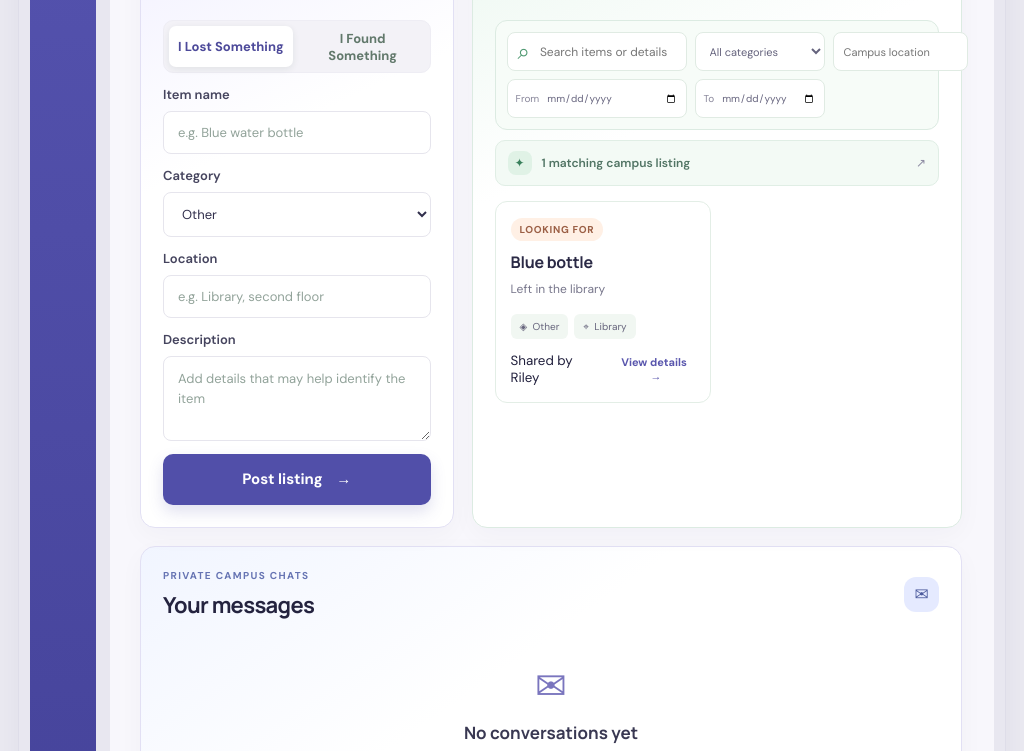
Test case: CampusFind board › lets the listing owner edit details
The image size is (1024, 751).
(page scrolled)
Step 1. Click the button "View details →" → (654, 369), box [613,351,695,387]
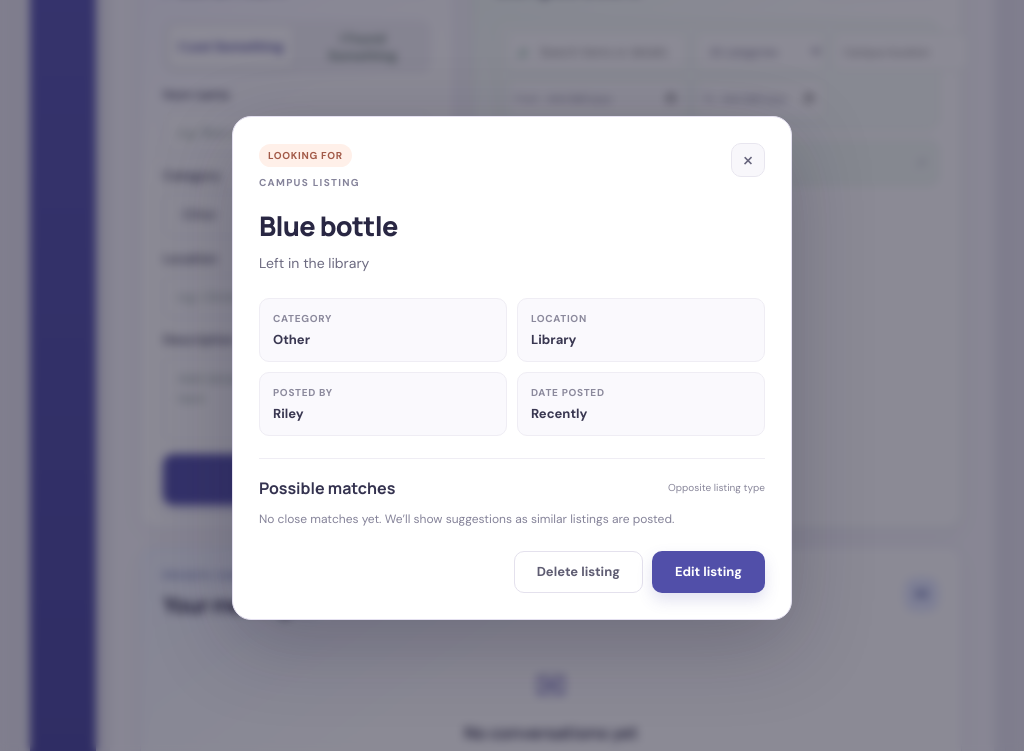
Step 2. Click the button "Edit listing" → (708, 572), box [652,551,765,593]
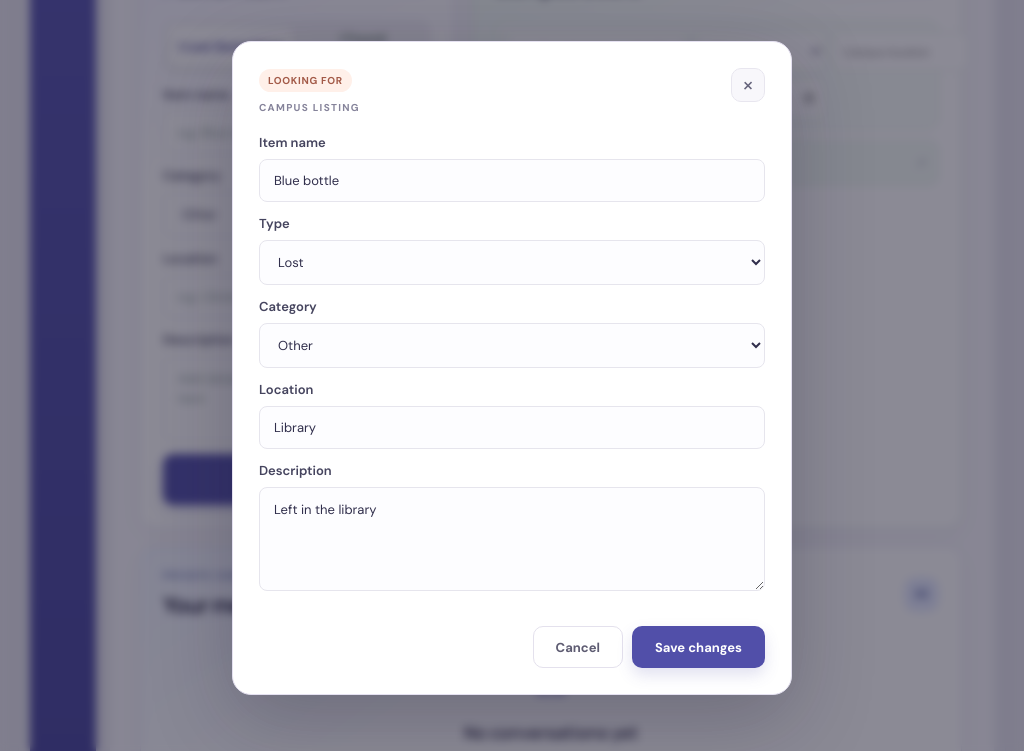
Step 3. Replace the text in the field labelled "Item name" with "Blue bottle edited" → (512, 180), box [259,159,765,202]
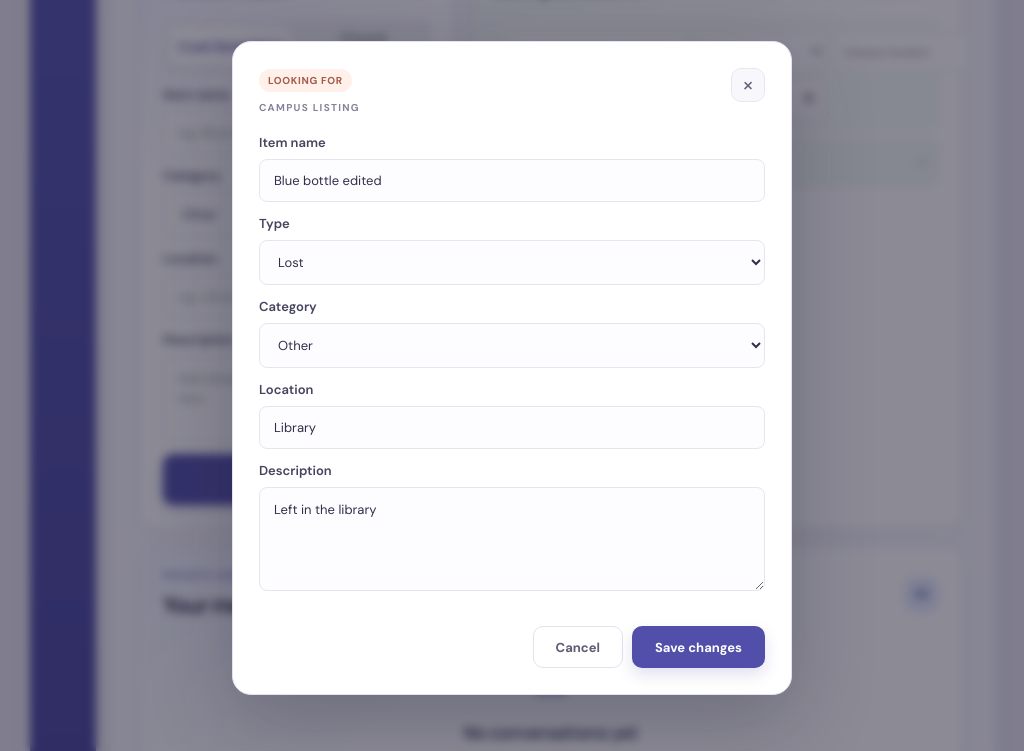
Step 4. Click the button "Save changes" → (698, 647), box [632,626,765,668]
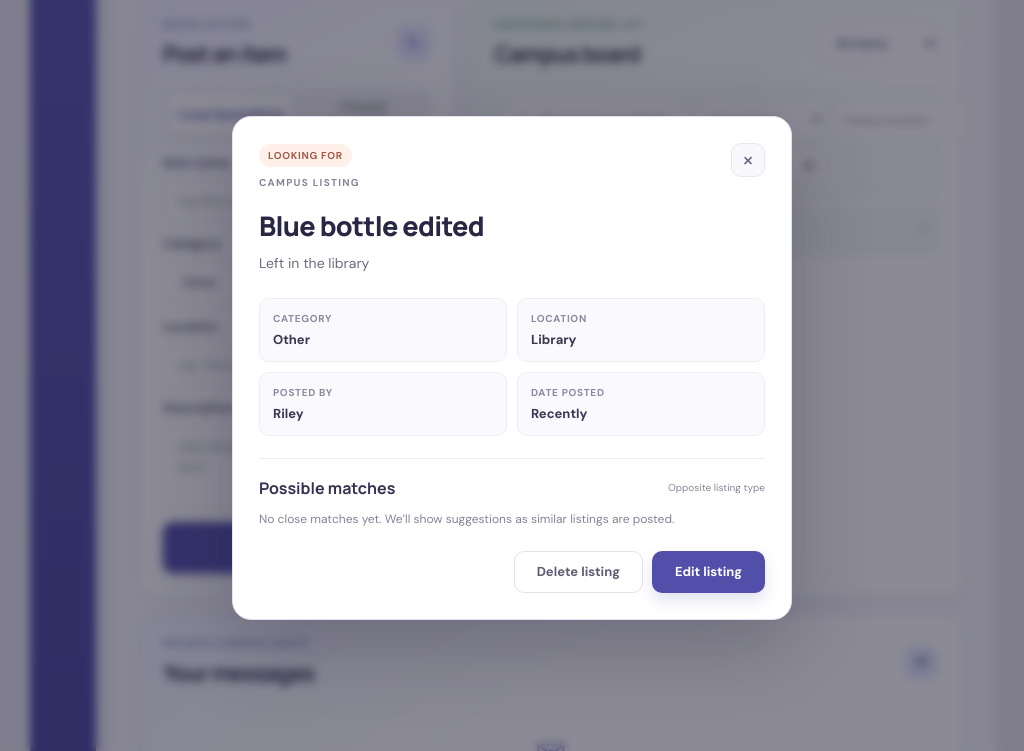
Expected: the heading "Blue bottle edited" is shown, [259,207,484,244]
